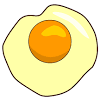potched-egg: (2, 1, 99, 97)
